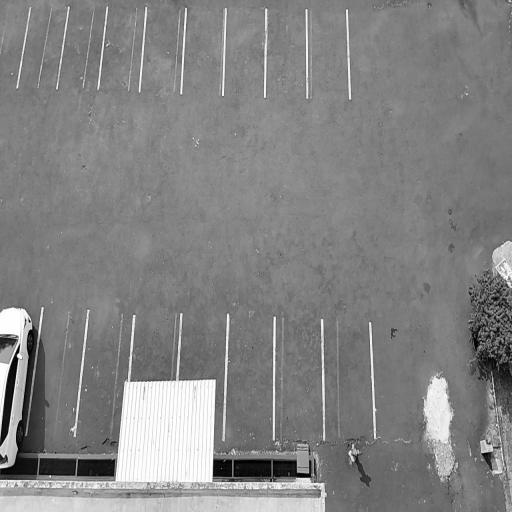Car: (0, 298, 42, 483)
Space Available: (26, 306, 87, 434), (76, 310, 130, 439), (323, 319, 376, 441), (225, 315, 276, 440), (274, 317, 325, 437), (16, 5, 69, 89), (56, 5, 107, 91), (98, 5, 146, 91), (181, 6, 227, 95), (140, 6, 186, 91), (307, 8, 350, 98), (223, 7, 265, 98), (265, 8, 307, 98), (128, 314, 181, 381), (178, 314, 228, 381), (0, 4, 31, 89)
